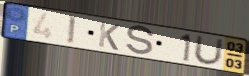1: (178, 33, 193, 64)
4: (31, 11, 56, 41)
I: (65, 14, 78, 46)
K: (97, 20, 122, 52)
S: (124, 25, 156, 57)
U: (192, 35, 225, 67)
